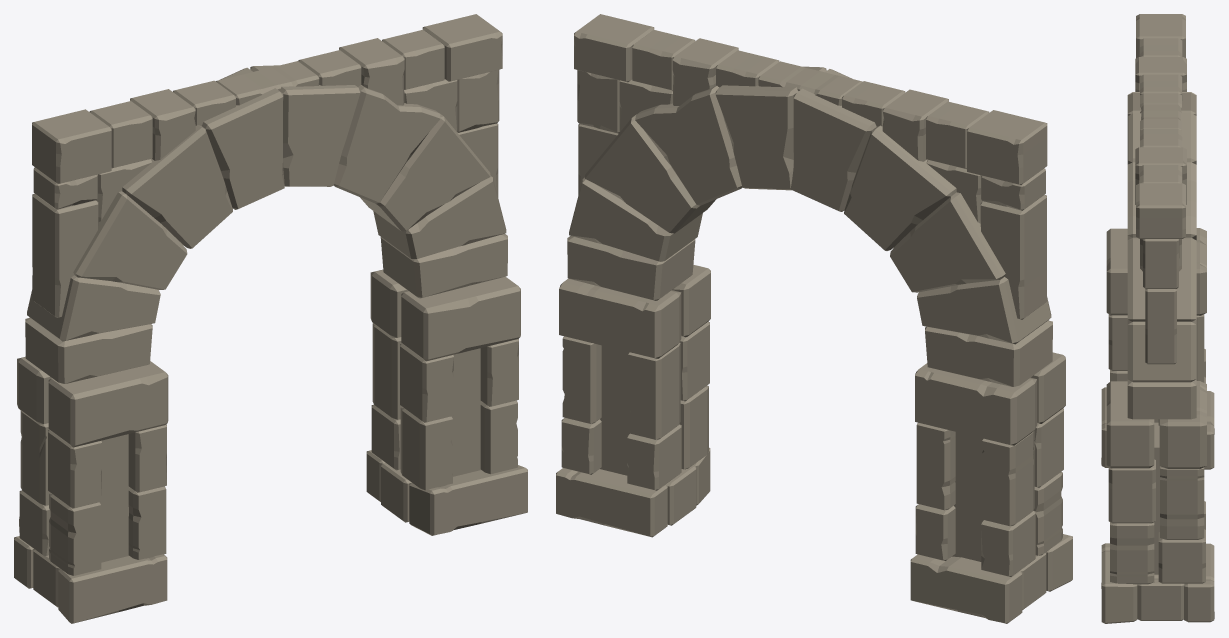
Rendered from Arch.glb.
3 views of the same model, side by side, from view 1: azimuth 30°, elevation 25°; view 2: azimuth 150°, elevation 25°; view 3: azimuth 270°, elevation 25° (orthographic). The views are drawn at different scales.
Visible parts, largest first — view 1: Arch; view 2: Arch; view 3: Arch.
Part boxes in pixels (box(x1,y1,x2,y2)): Arch: box(14, 14, 527, 623); Arch: box(556, 14, 1072, 623); Arch: box(1101, 14, 1214, 623).
Size of the model in its own units: 1 by 0.977 by 0.2418.
